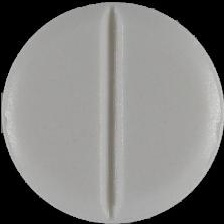16714-041: (0, 0, 224, 224)
